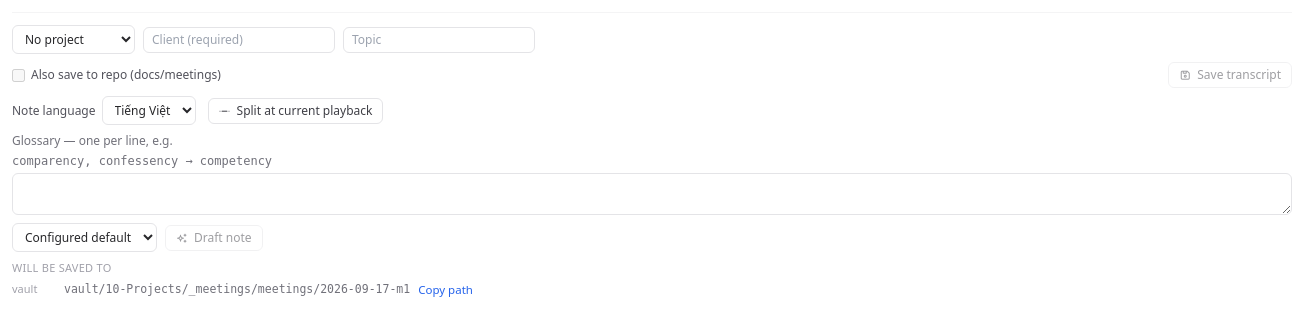
Test case: the destination shown in the panel › shows the repo copy only while it is ticked
Type "Chị Kate" into the field labelled "Client".
click(239, 40); type("Chị Kate")  # box [143,26,335,52]
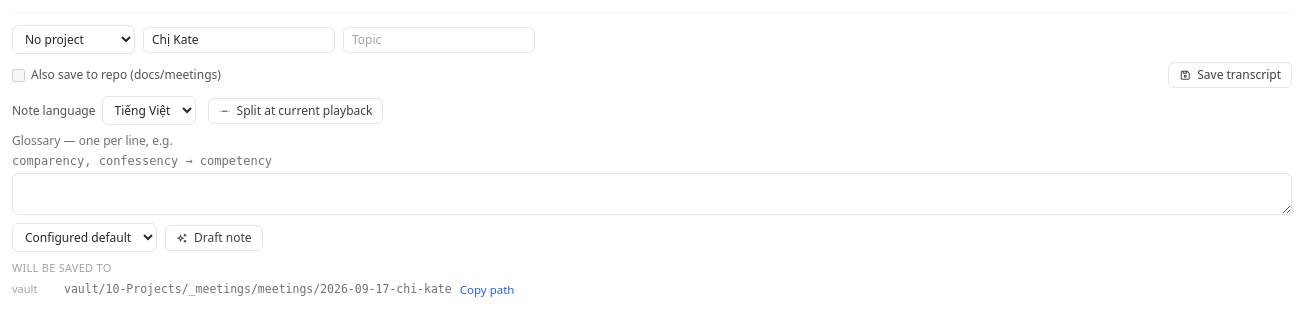
Select "Mantu · ABCV2" in the dropdown named "Project or workspace" at coordinates (74, 40), box [12,25,135,54]
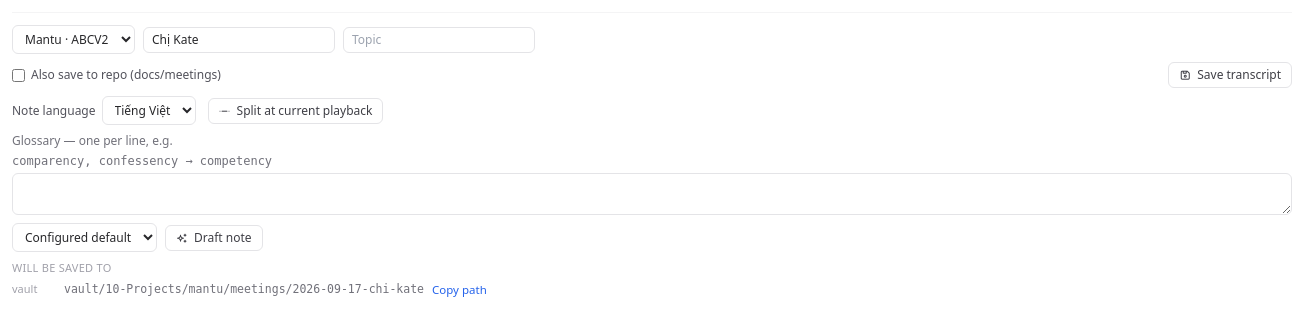
Click the checkbox labelled "Also save to repo".
click(18, 75)  # box [12,68,25,82]
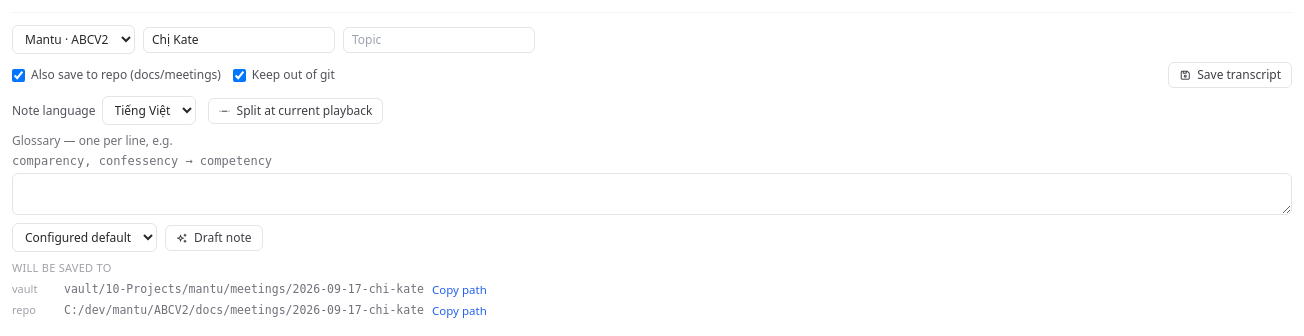
Expected: the text "C:/dev/mantu/ABCV2/docs/meetings/2026-09-17-chi-kate" is shown, [64,302,424,319]
Expected: the text with test id "destination-repo" shows "docs/meetings", [64,303,424,317]
Click the checkbox labelled "Also save to repo".
click(18, 75)  # box [12,68,25,82]
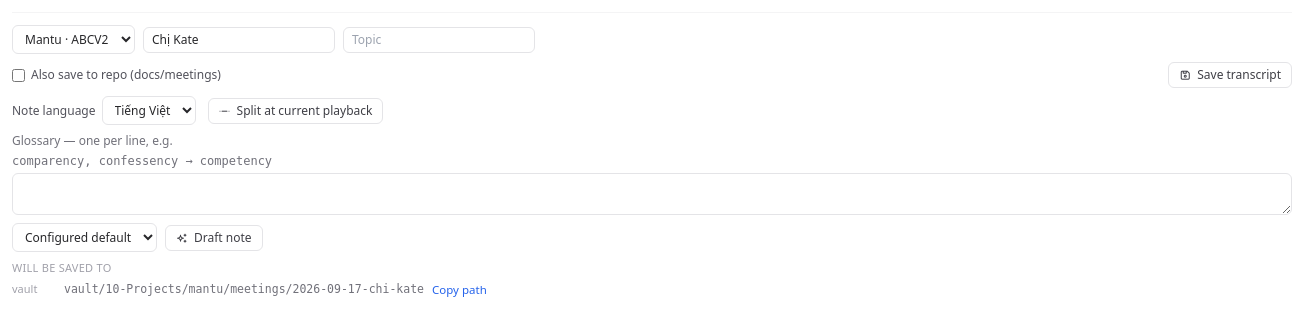
Expected: the text "vault/10-Projects/mantu/meetings/2026-09-17-chi-kate" is shown, [64,280,424,298]
Expected: the text with test id "destination-repo" is gone
